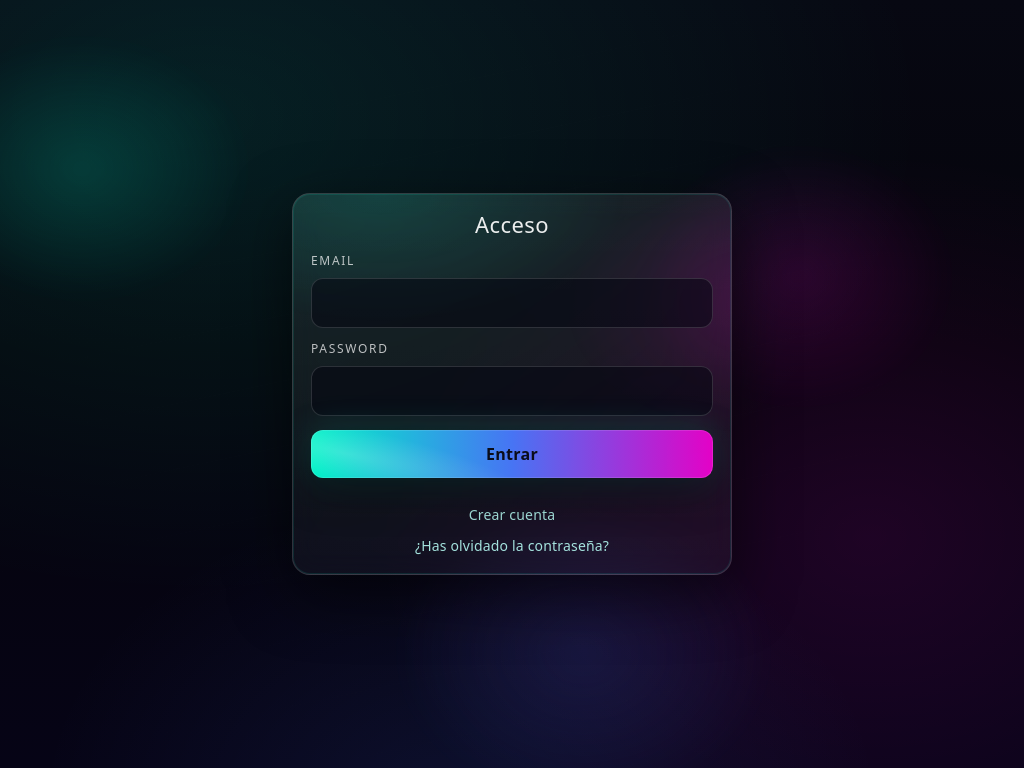
Scenario: LoginPage › shows error on invalid credentials
Type "bad@example.com" into the field labelled "Email".
click(512, 303); type("bad@example.com")  # box [311, 278, 713, 328]
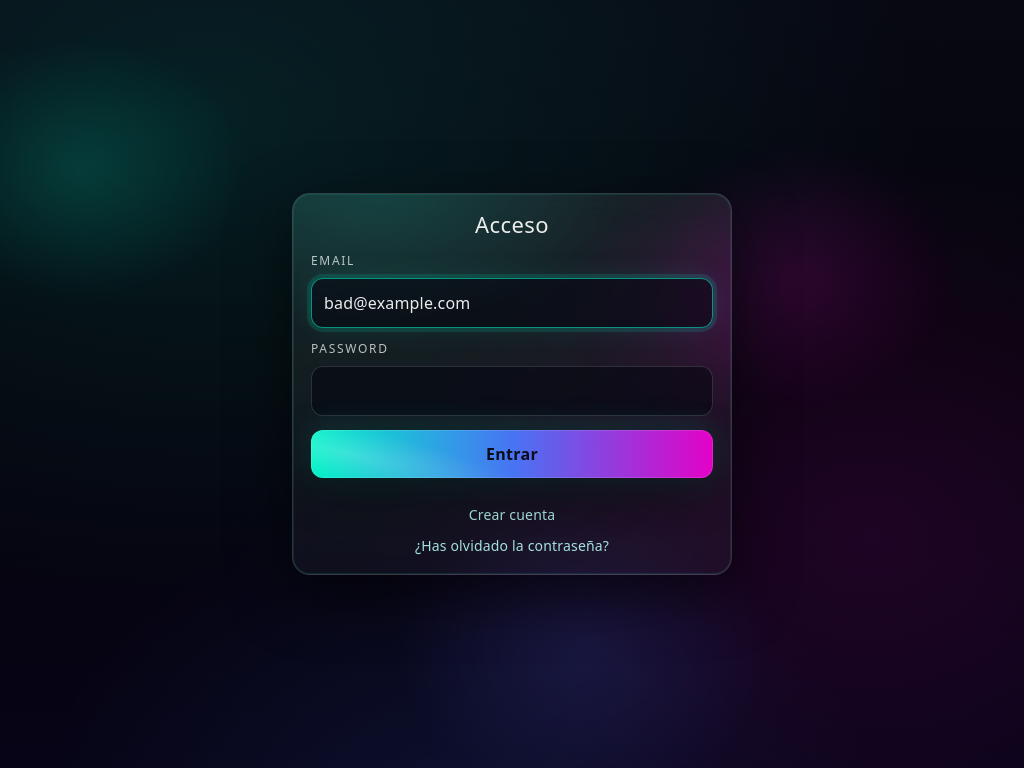
Type "wrongpass" into the password field labelled "Password".
click(512, 391); type("wrongpass")  # box [311, 366, 713, 416]
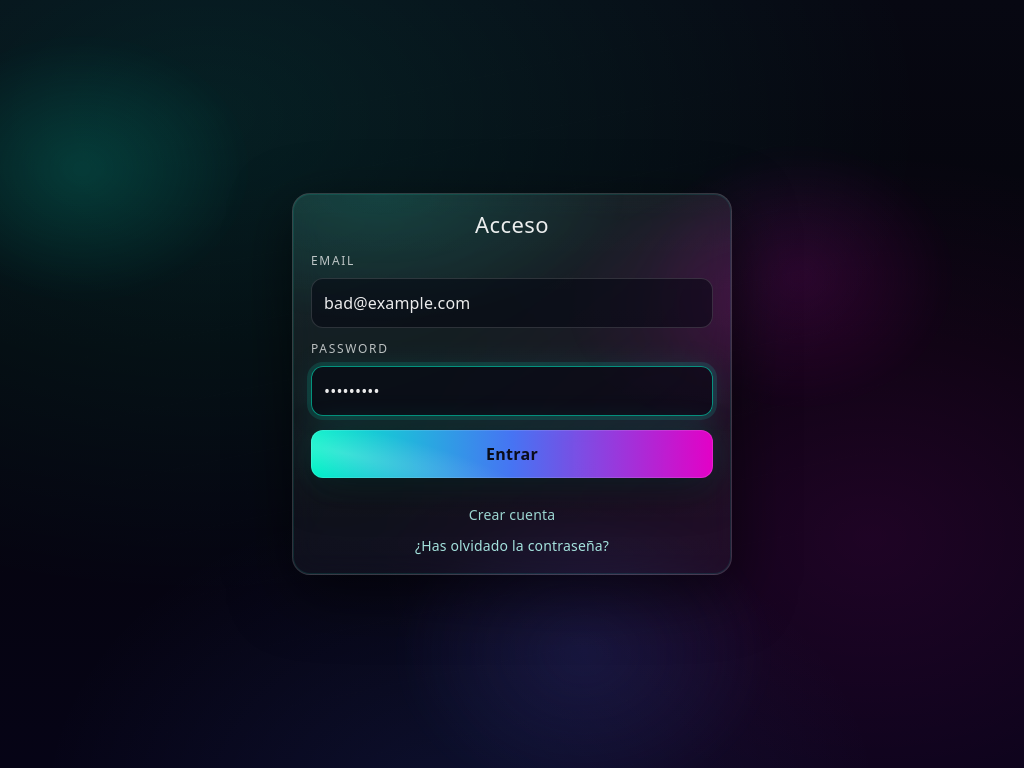
Click the button "Entrar".
click(512, 454)  # box [311, 430, 713, 478]
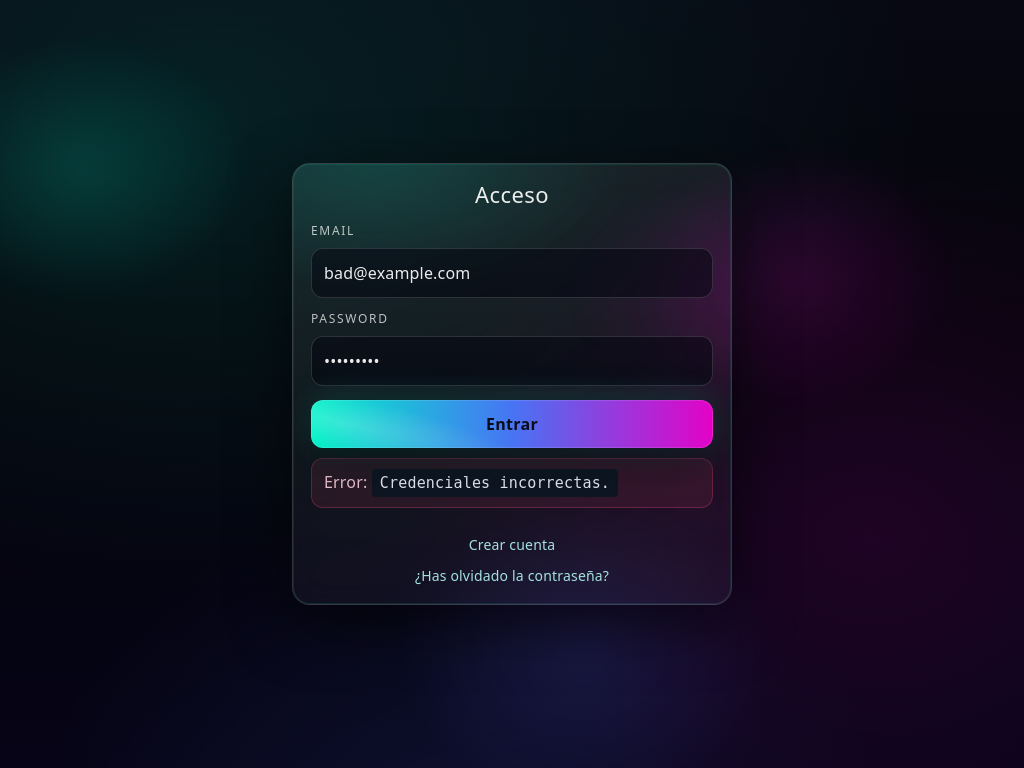
Check: the message shows "Credenciales incorrectas", box [380, 474, 610, 492]
